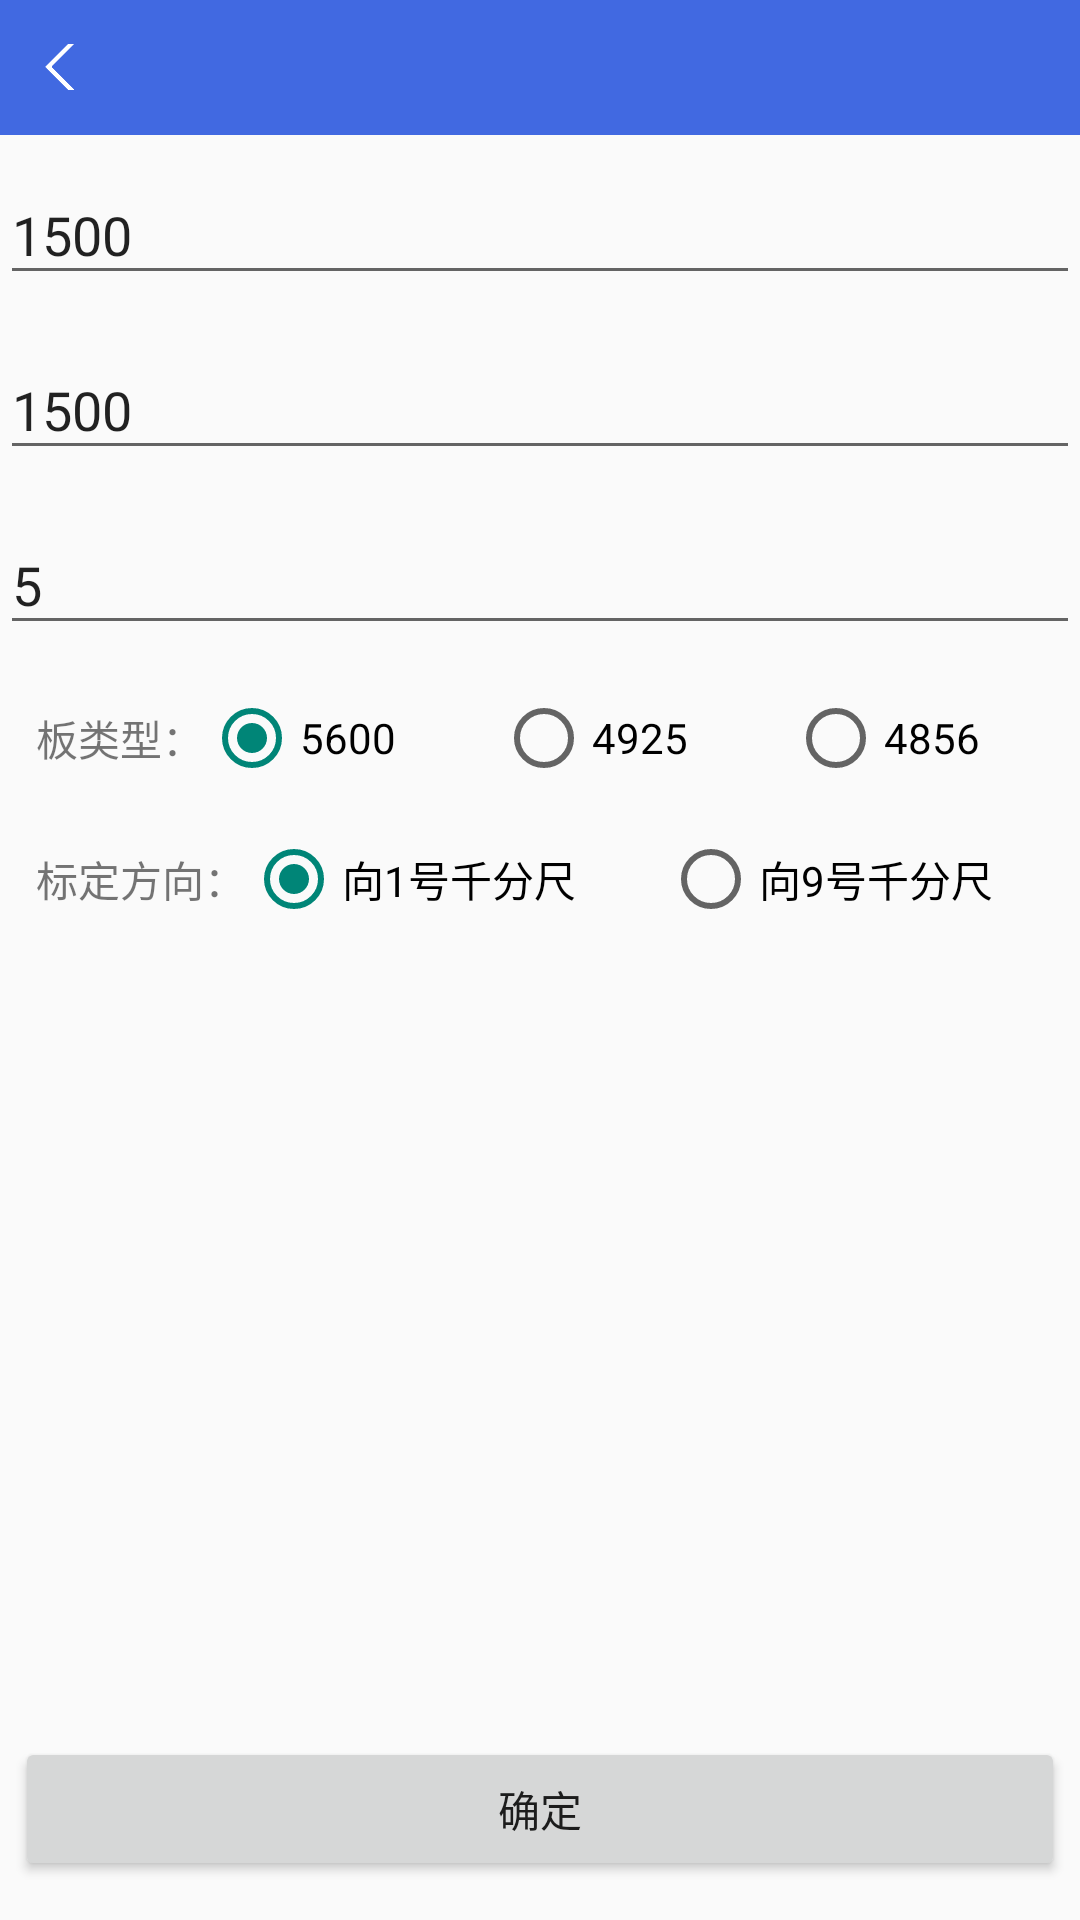

Where to tap for icons on this 1080px x 1920px app screen, as point (x, y):
title back: point (59, 67)
